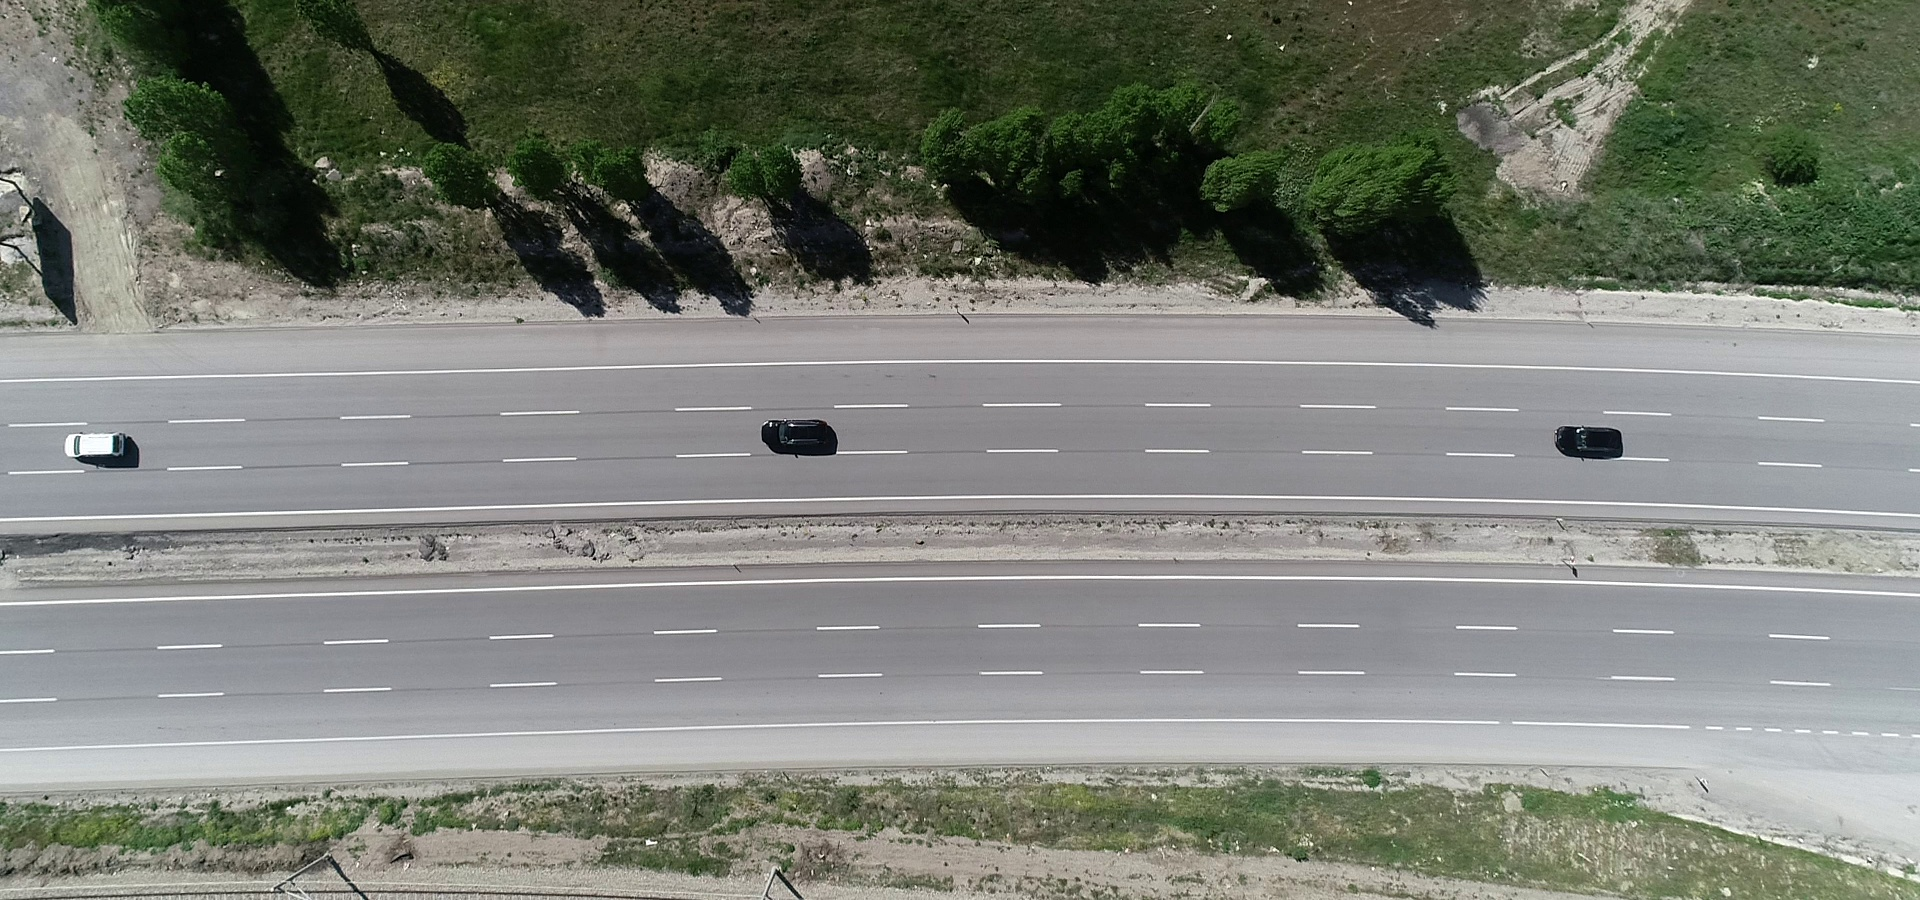arac: (758, 413, 851, 463), (58, 424, 137, 465), (1547, 421, 1629, 456)
